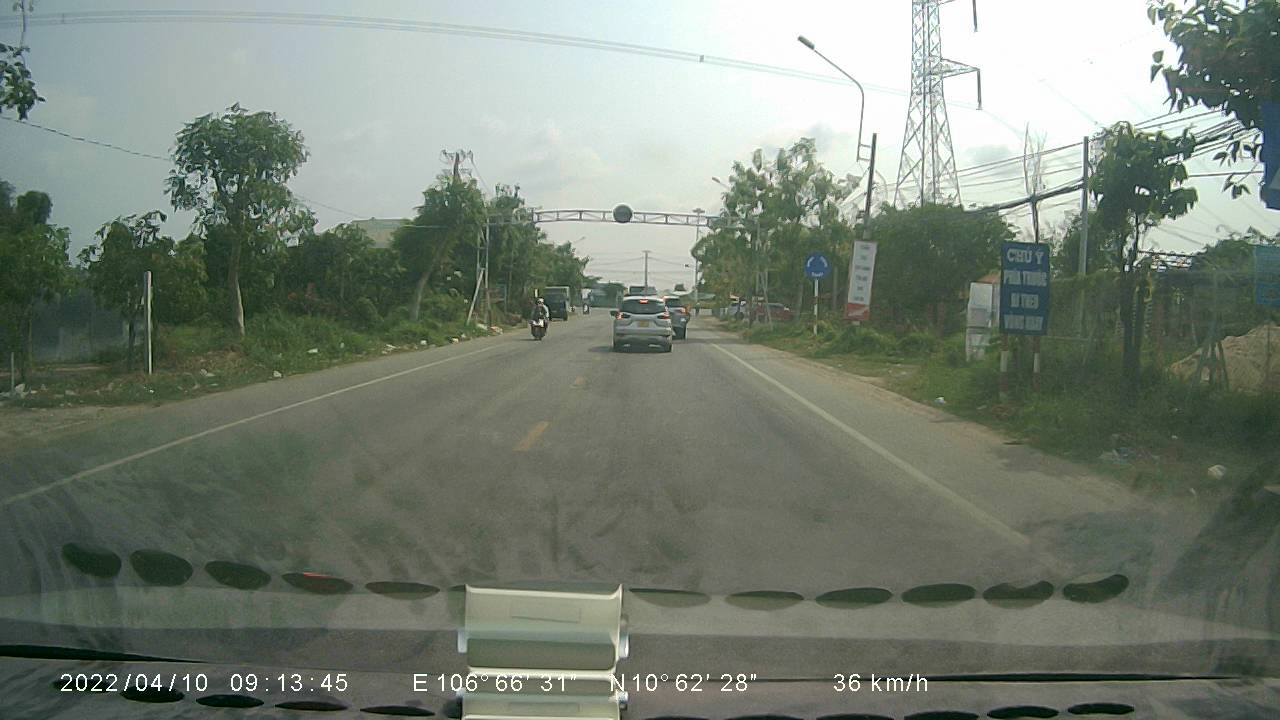Bien khac: (802, 250, 831, 280)
